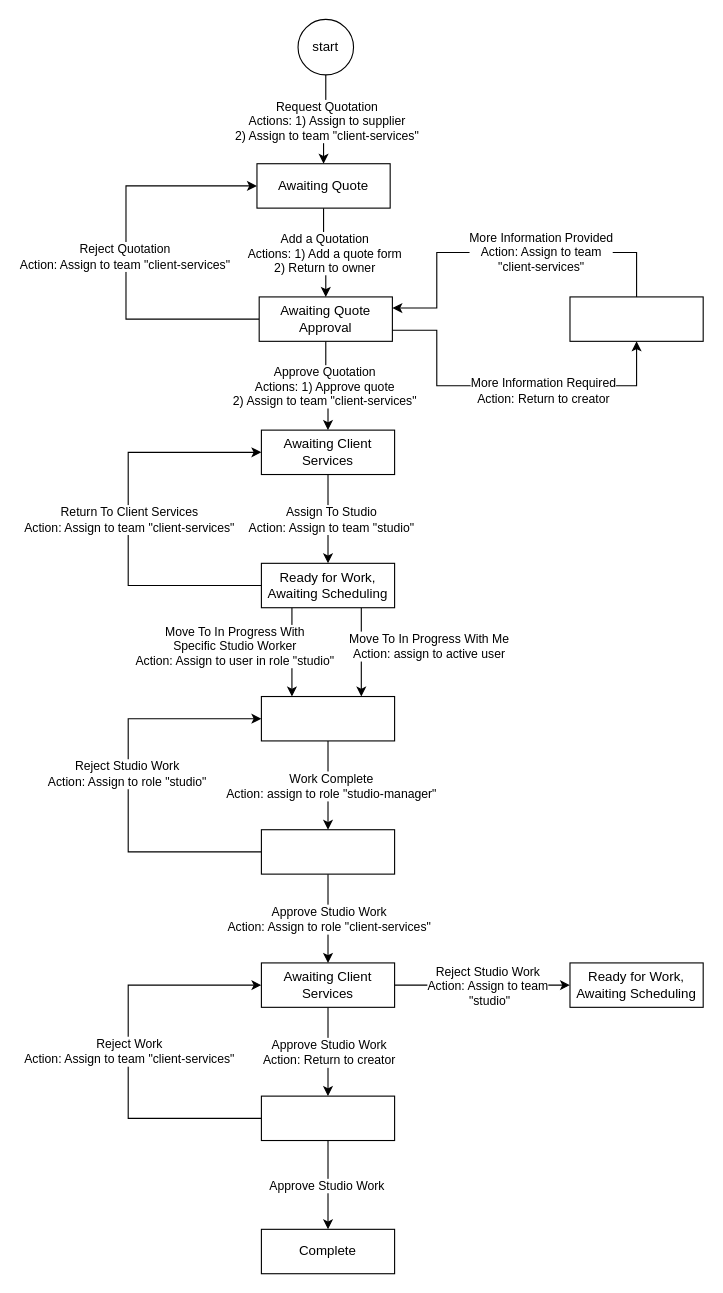
This 723x1293 diagram has some shape labels left out. Here are the shapes that lost their labels. From the top down, the centre of each, then its label:
At [636,318]: "More Information Required".
At [327,718]: "In Progress With Studio Worker".
At [327,851]: "In Progress With Studio Manager".
At [327,1118]: "Agency Approved, Awaiting Dealer Approval".
